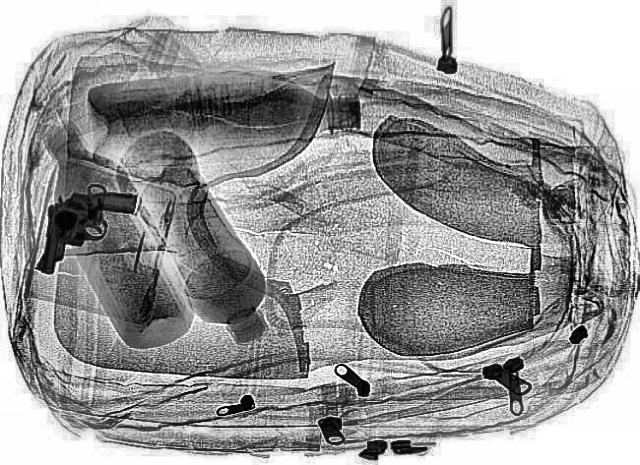Gun: (21, 178, 142, 284)
